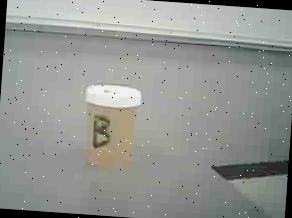Bottle B: (78, 78, 146, 172)
